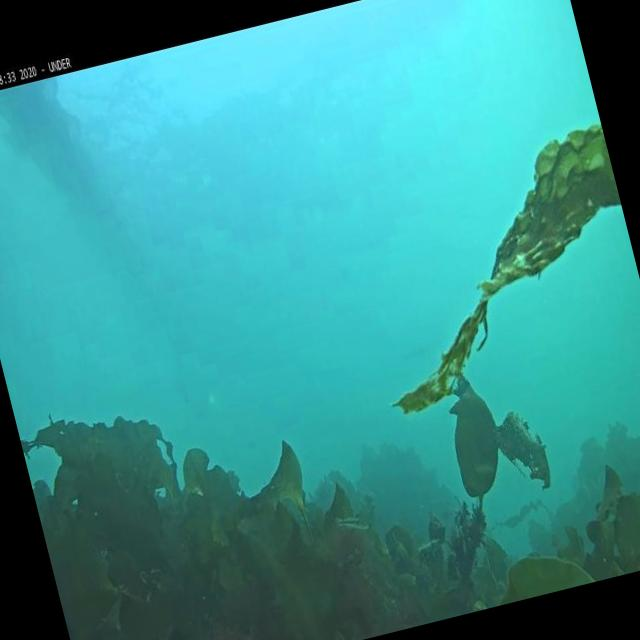fish: (333, 508, 372, 536)
